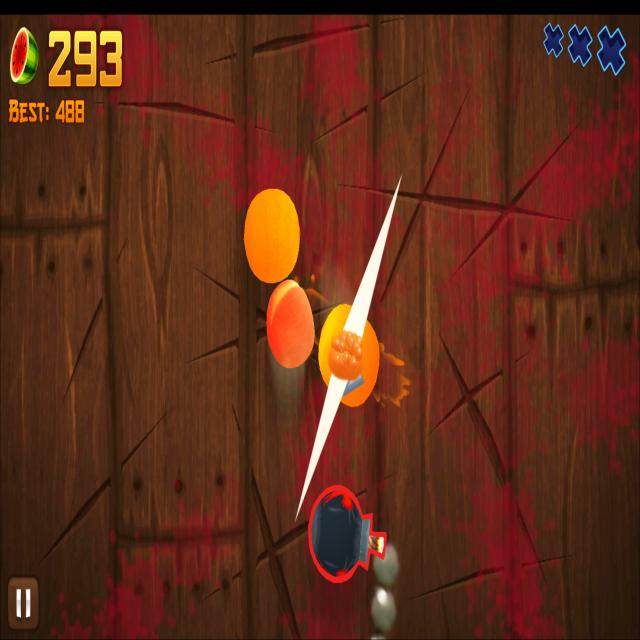bomb: (306, 483, 388, 585)
fruit: (318, 302, 380, 407), (243, 187, 301, 285), (265, 278, 316, 369)
